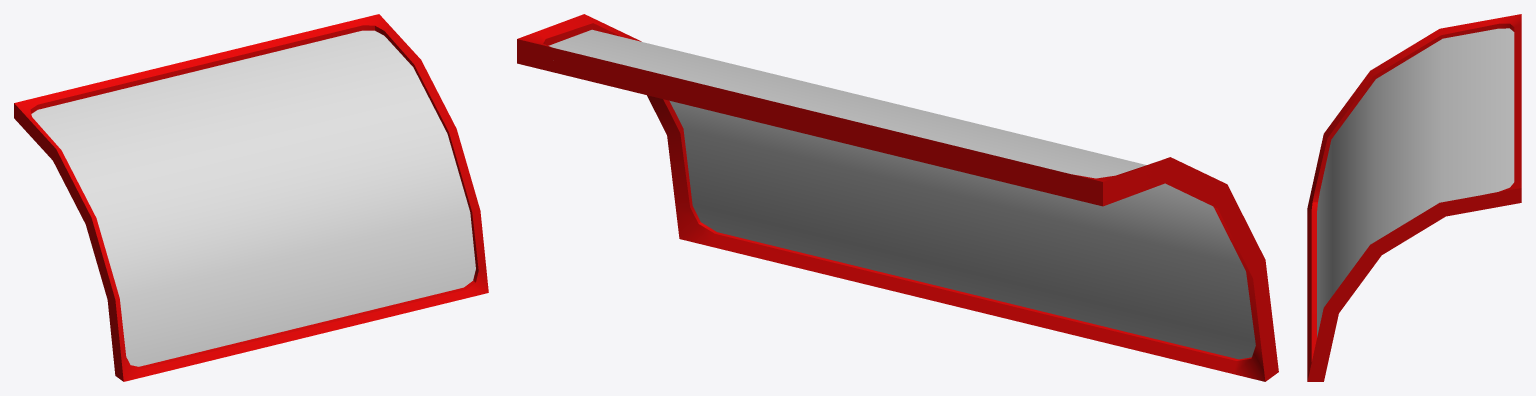
The model's file is window_light_edge_rectangle.fbx.
3 renders of one model, left to right at view 1: azimuth 30°, elevation 25°; view 2: azimuth 150°, elevation 25°; view 3: azimuth 270°, elevation 25°, orthographic. The views are drawn at different scales.
Parts seen in each view (by area): view 1: window_light_glass, windows_light_frame; view 2: window_light_glass, windows_light_frame; view 3: window_light_glass, windows_light_frame.
Part boxes in pixels (bbox=[...]): window_light_glass: bbox=[31, 30, 475, 366]; windows_light_frame: bbox=[14, 14, 488, 381]; window_light_glass: bbox=[548, 29, 1255, 359]; windows_light_frame: bbox=[517, 14, 1278, 381]; window_light_glass: bbox=[1317, 28, 1514, 337]; windows_light_frame: bbox=[1307, 14, 1521, 381].
Size of the model in its own units: 100 by 52 by 52.
